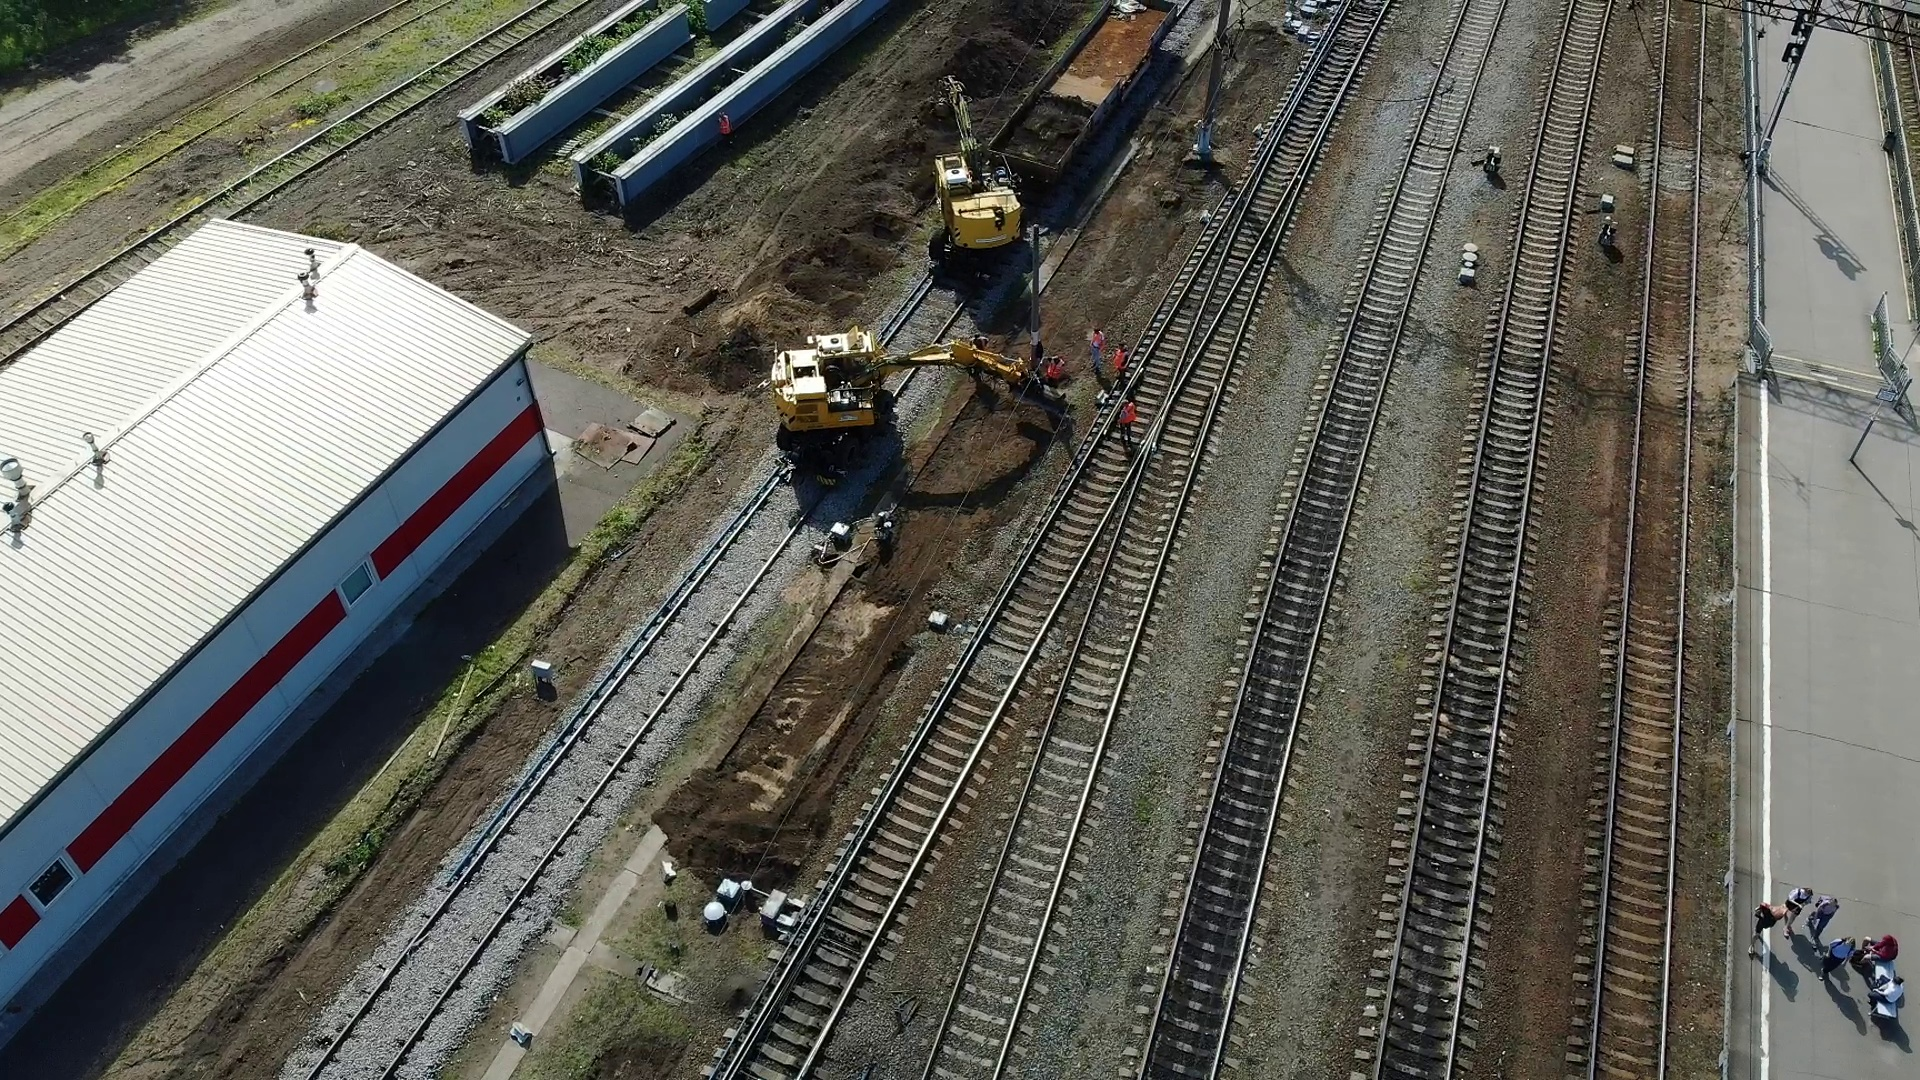kjtv: (773, 315, 905, 456), (917, 158, 1027, 279)
